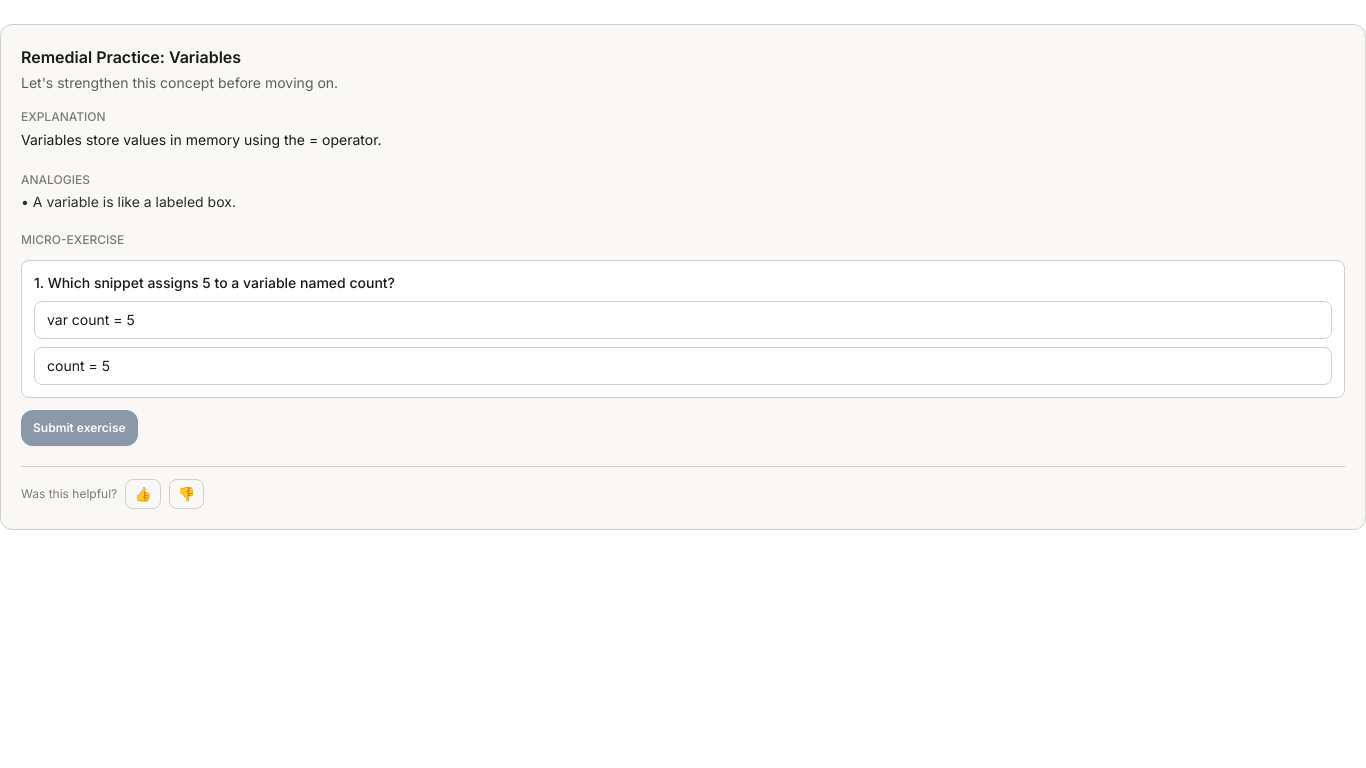
Scenario: RemedialPanel › sends helpful feedback to the Phase 6 endpoint and thanks the user
The width and height of the screenshot is (1366, 768).
Check: the text "Variables store values in memory using the = operator." is shown, box [21,131,382,148]
Click the button named "Helpful": [143, 494] box [125,479,161,509]
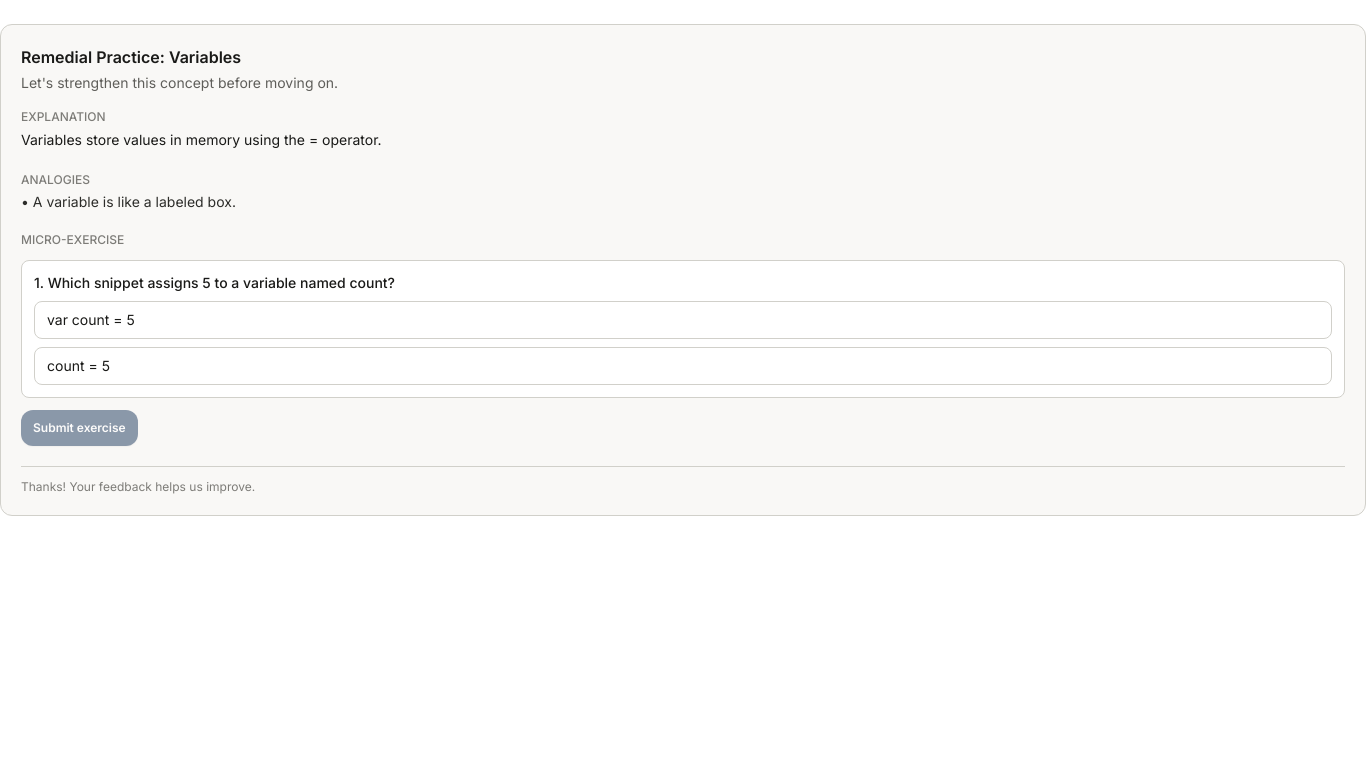
Check: the text with test id "feedback-thanks" shows "Thanks", box [21,479,255,494]
